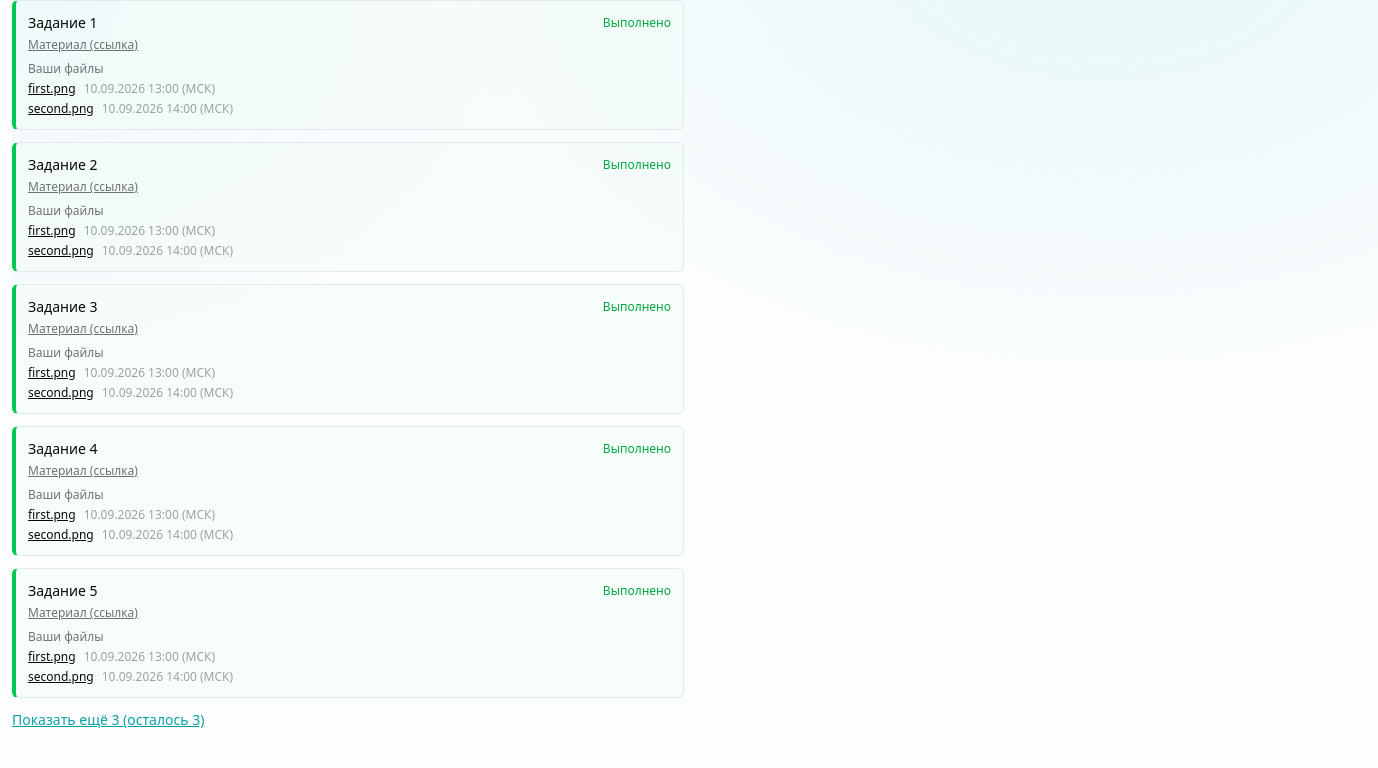
Test: student HomeworkTab › показывает последние 5 заданий, остальные - по кнопке
The width and height of the screenshot is (1378, 768).
Check: the text "Задание 6" is not shown
Click the button "Показать ещё 3 (осталось 3)".
click(108, 720)  # box [12,710,204,730]
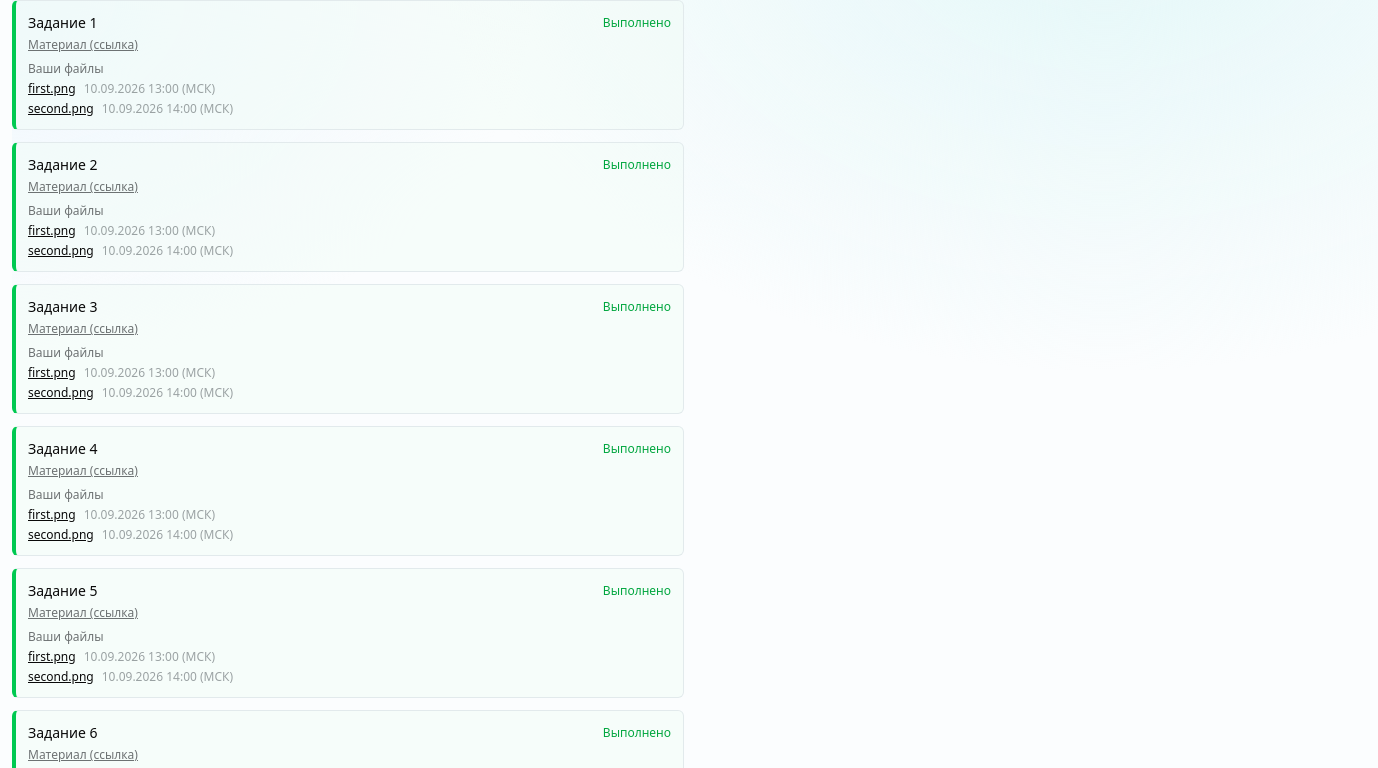
Check: the text "Показать ещё" is gone
